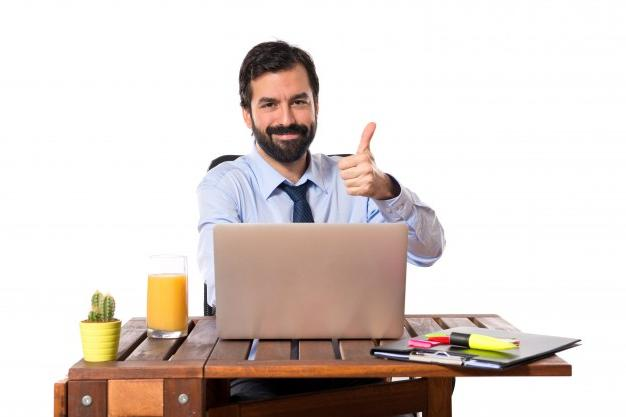thumbsup: (338, 120, 377, 196)
